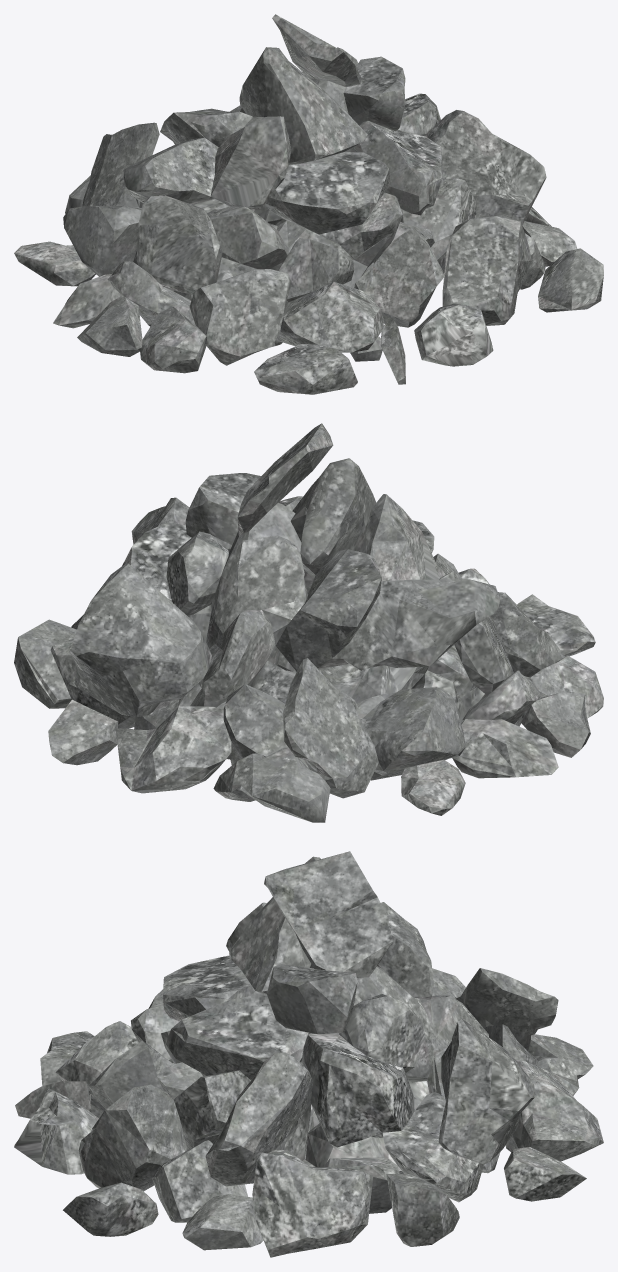
Rendered from scree_pile.glb.
3 views of the same model, one above another, from view 1: azimuth 30°, elevation 25°; view 2: azimuth 150°, elevation 25°; view 3: azimuth 270°, elevation 25° (orthographic). The views are drawn at different scales.
Size of the model in its own units: 1.89 by 1 by 1.89.
1 material, 1 textured.
